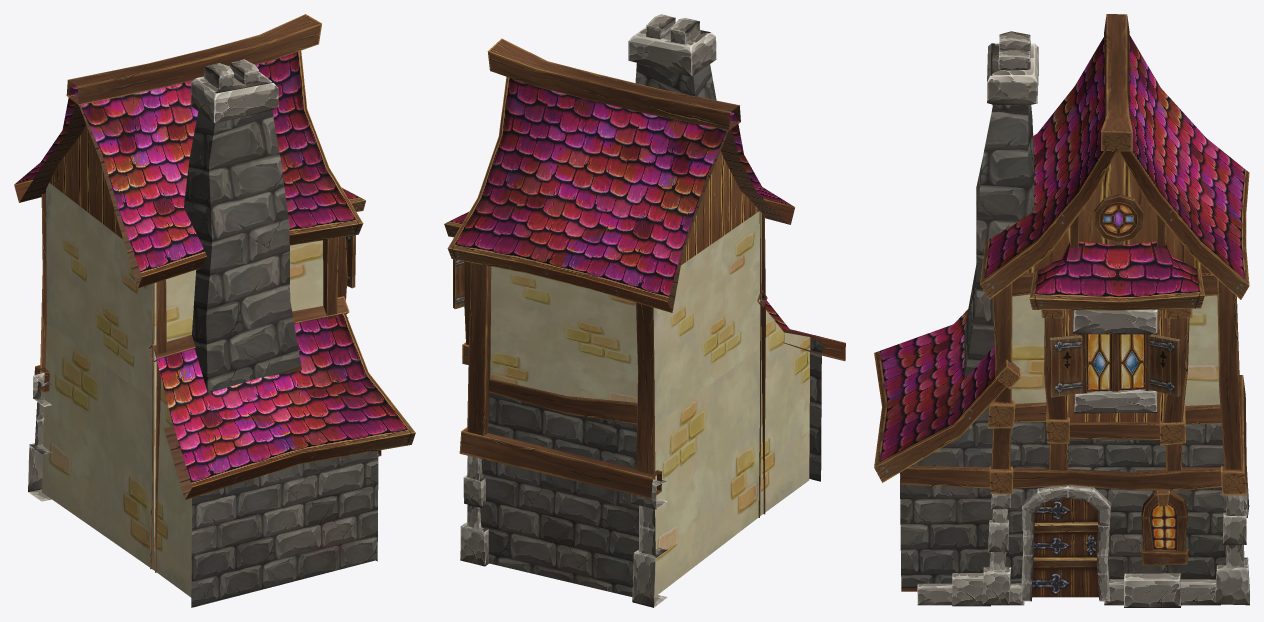
3 views of the same model, side by side, from view 1: azimuth 30°, elevation 25°; view 2: azimuth 150°, elevation 25°; view 3: azimuth 270°, elevation 25° (orthographic). The views are drawn at different scales.
Parts seen in each view (by area): view 1: domki001; view 2: domki001; view 3: domki001.
Part boxes in pixels (left/top/right/bottom): domki001: left=14, top=14, right=415, bottom=607; domki001: left=444, top=14, right=845, bottom=607; domki001: left=874, top=14, right=1249, bottom=607.
Bounding box in the file's own units: 532 × 648 × 977.
Materials: 1 (1 with a texture image).
